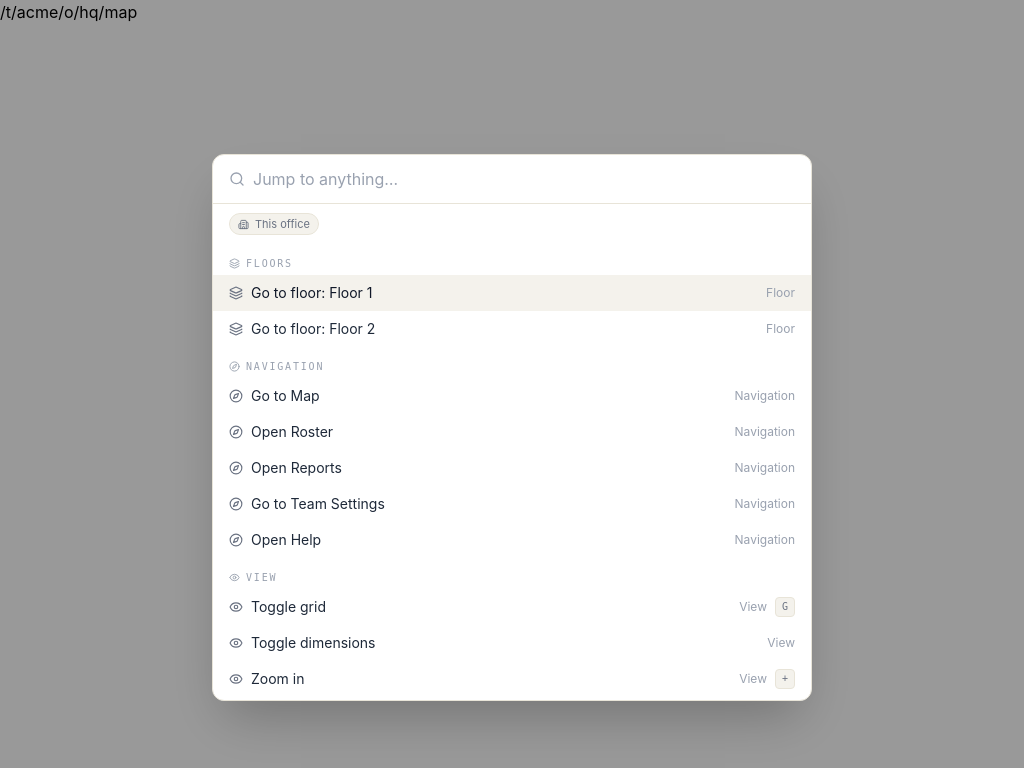
Test: CommandPalette › renders the empty state with hint text when the query has no matches
In the field with test id "command-palette-input": (524, 179) [253,167,795,191], type "asdfqwerzz"
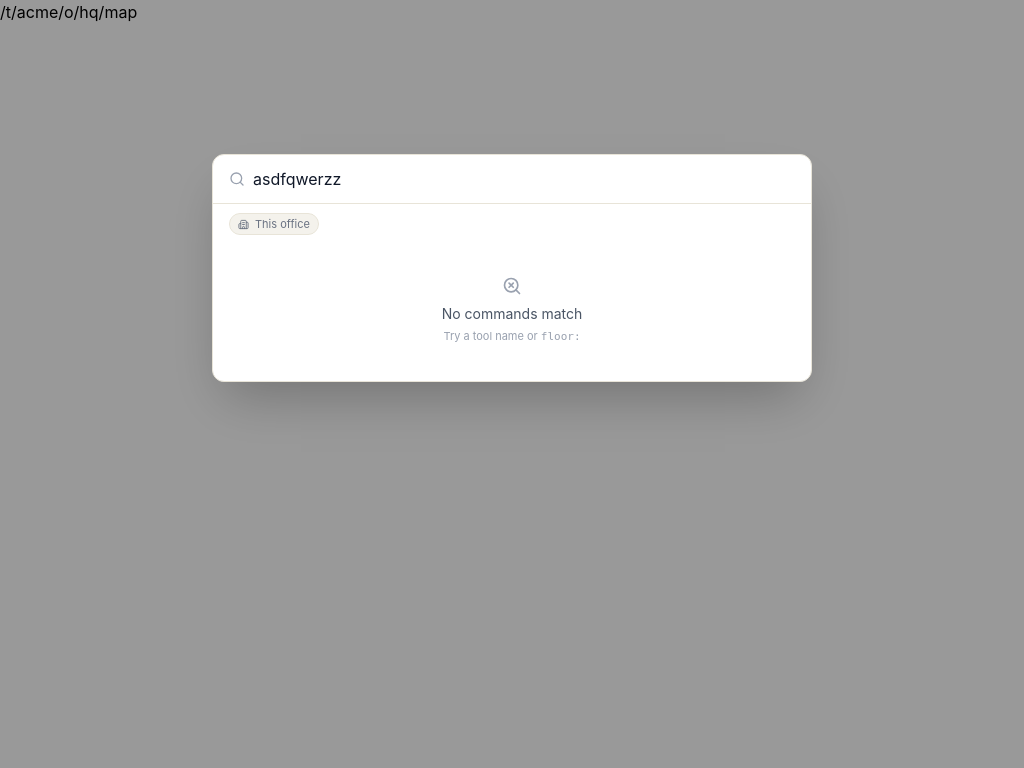
Now the list item with test id "command-palette-empty" is shown, box [442,276,582,343]
Now the text "No commands match" is shown, box [442,305,582,322]
